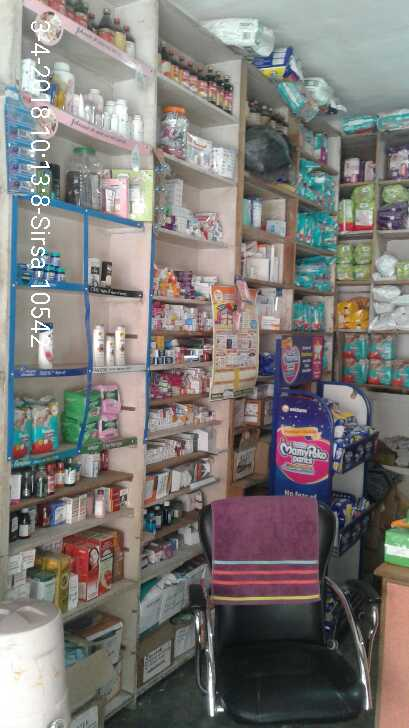vicks: (16, 251, 66, 283)
